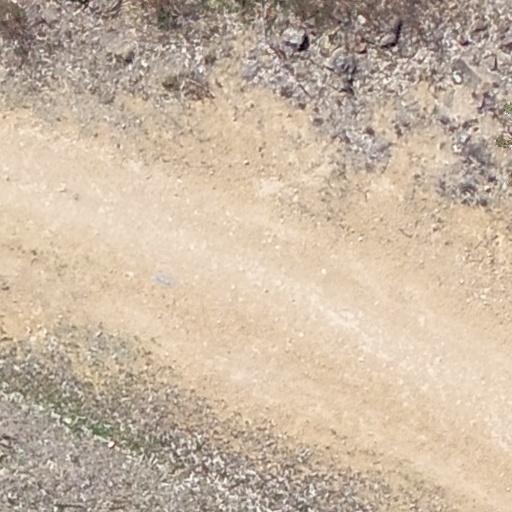stone: (285, 29, 307, 48), (386, 14, 403, 34), (378, 33, 400, 48), (468, 18, 487, 34), (456, 33, 470, 45), (354, 42, 366, 53), (355, 16, 367, 24)
